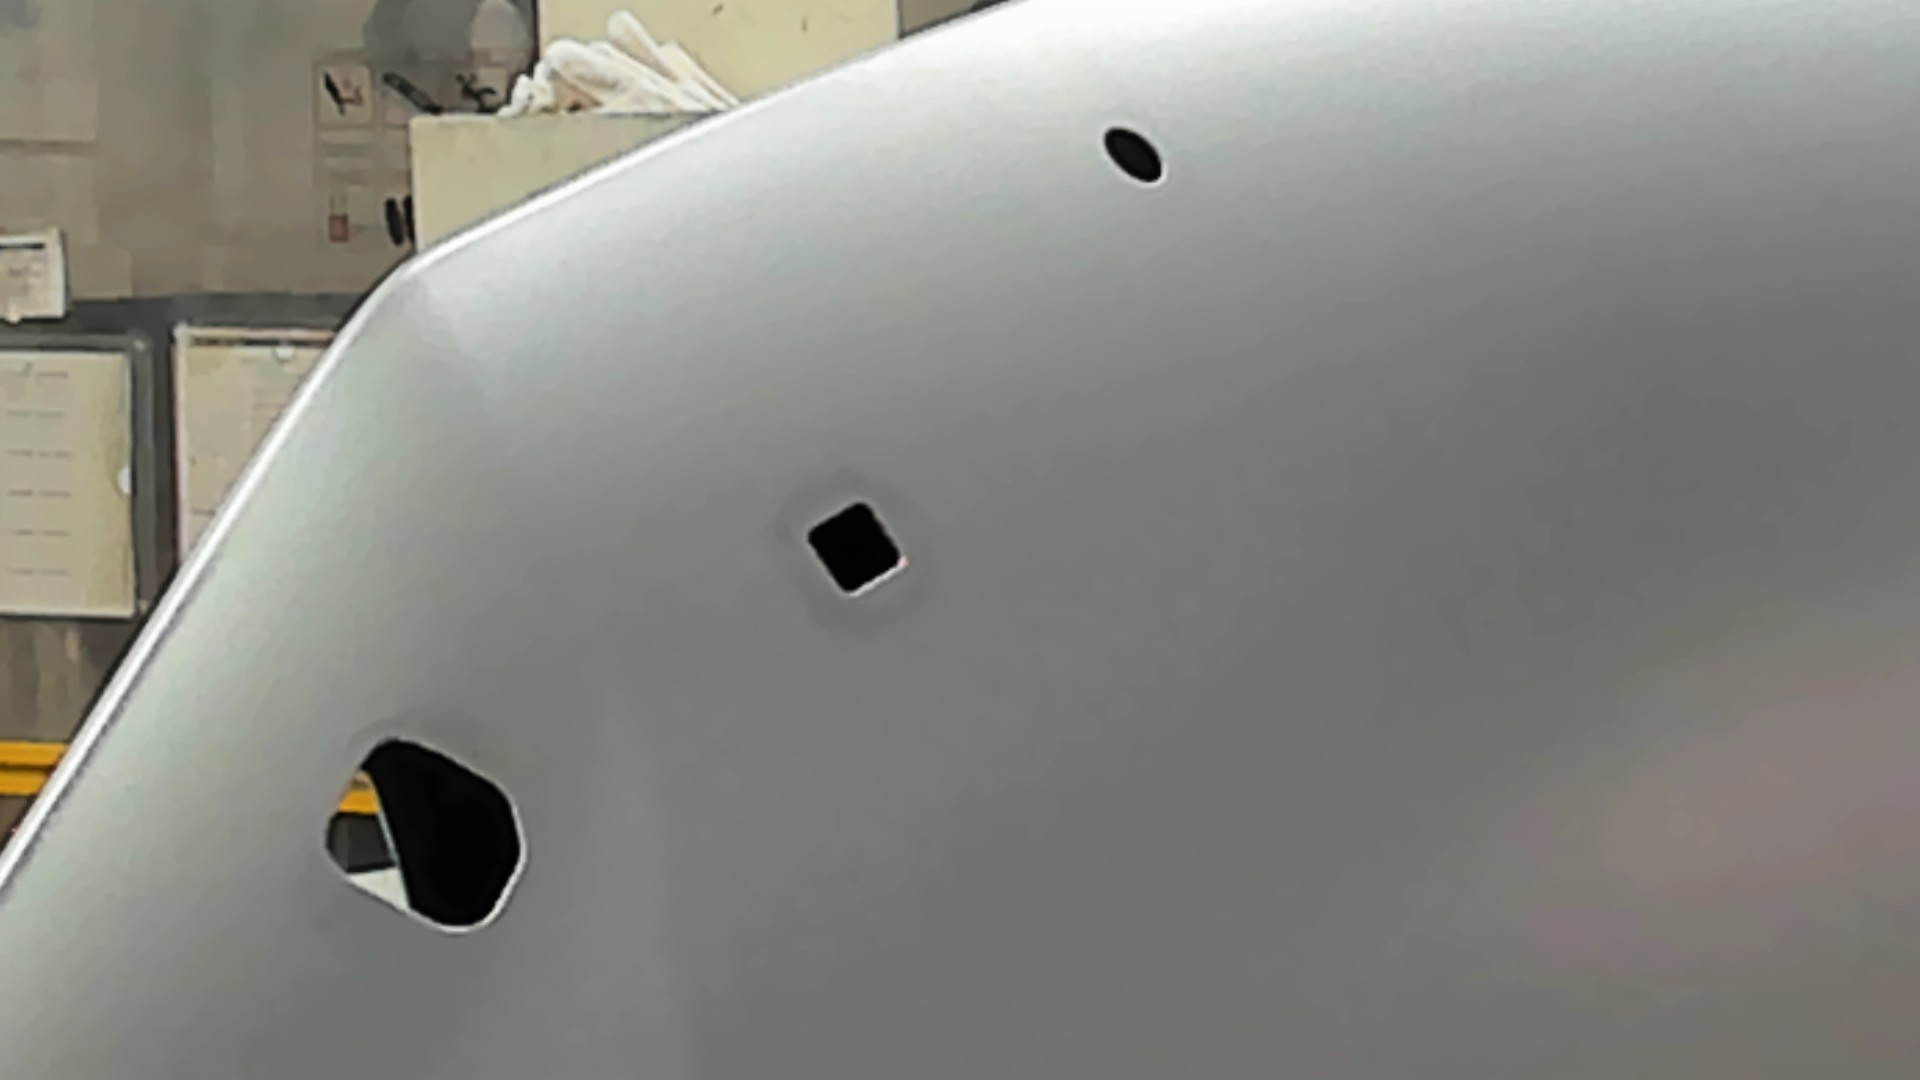capo: (914, 193, 1920, 1080)
chico: (1097, 119, 1170, 193)
grande: (318, 732, 535, 942)
mediano: (796, 491, 911, 605)
